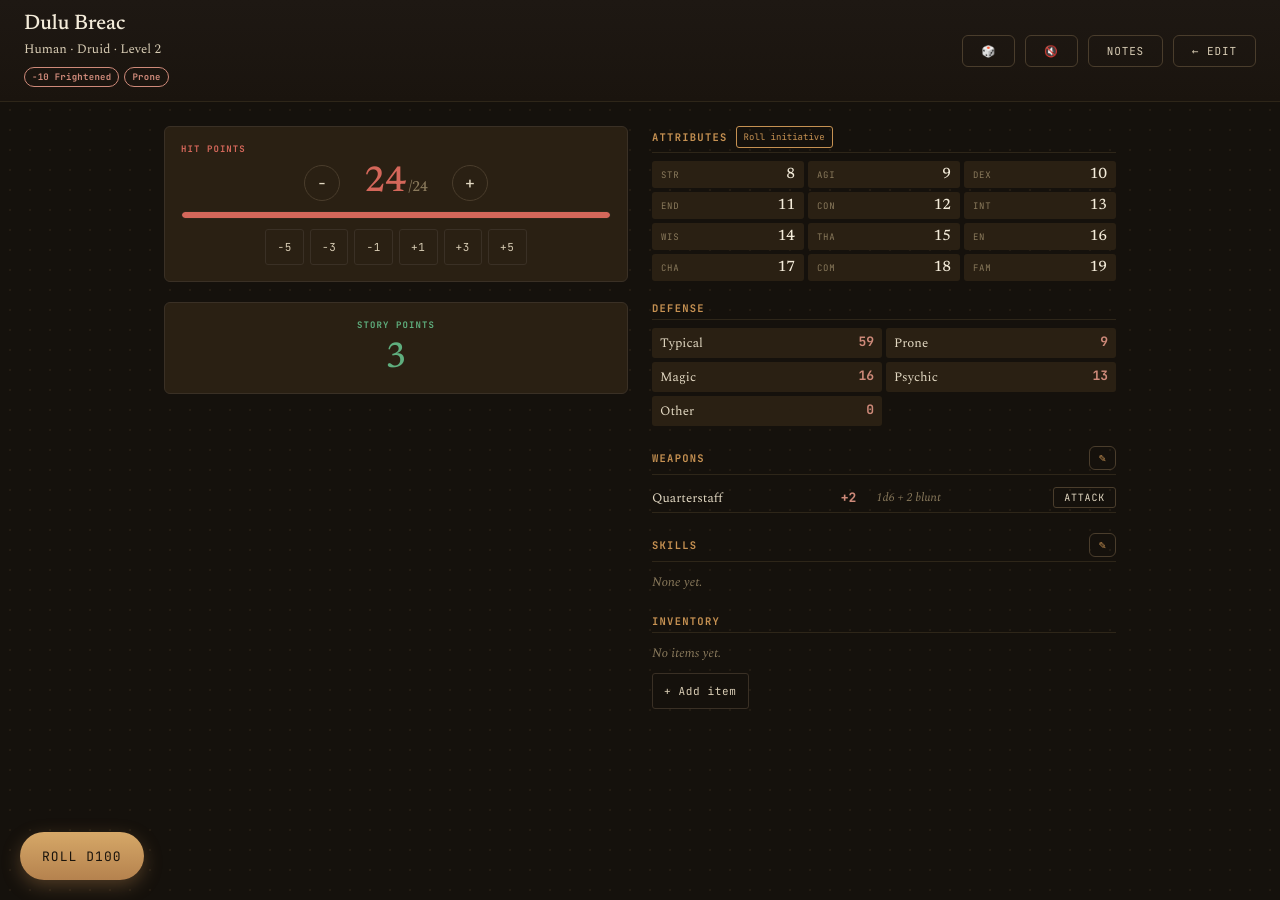
Test: Roll banner explains its numbers (#372) › says GM conditions were not included, and sends that to the feed
The width and height of the screenshot is (1280, 900).
Step 1. Click the button "Attack" → [1085, 498], box [1053, 487, 1116, 508]
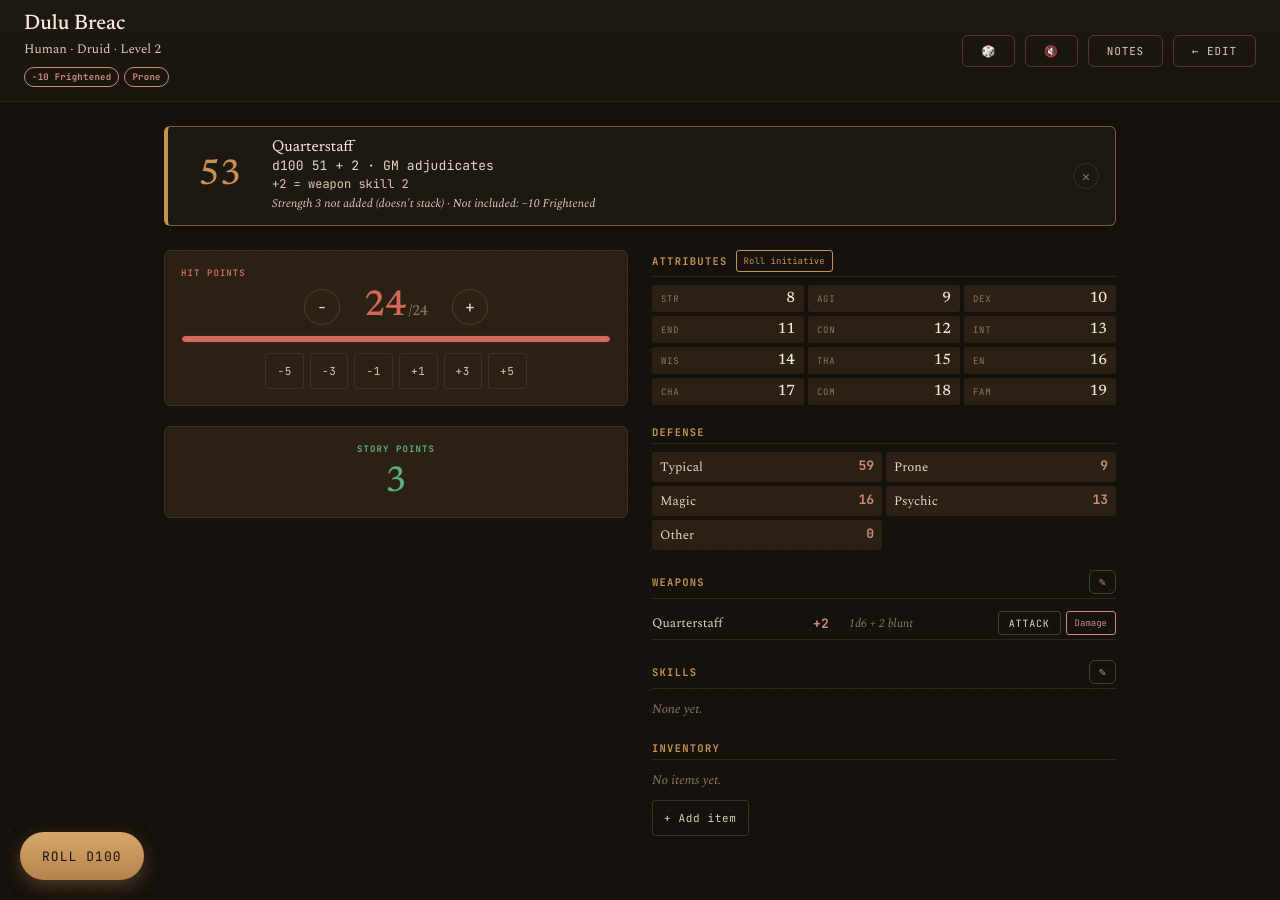
Result: the message shows "Not included: −10 Frightened" at [272, 194, 595, 213]
